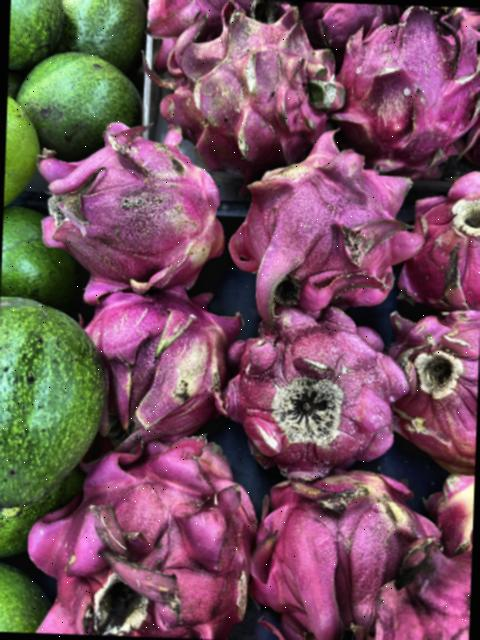buah-naga-belum-matang: (37, 121, 233, 288), (251, 462, 418, 640), (152, 7, 335, 152), (80, 278, 237, 440), (422, 455, 474, 558)
buah-naga-matang: (33, 426, 257, 640), (223, 127, 412, 310), (214, 298, 404, 456), (339, 3, 480, 174), (379, 302, 480, 467), (407, 169, 480, 311)
